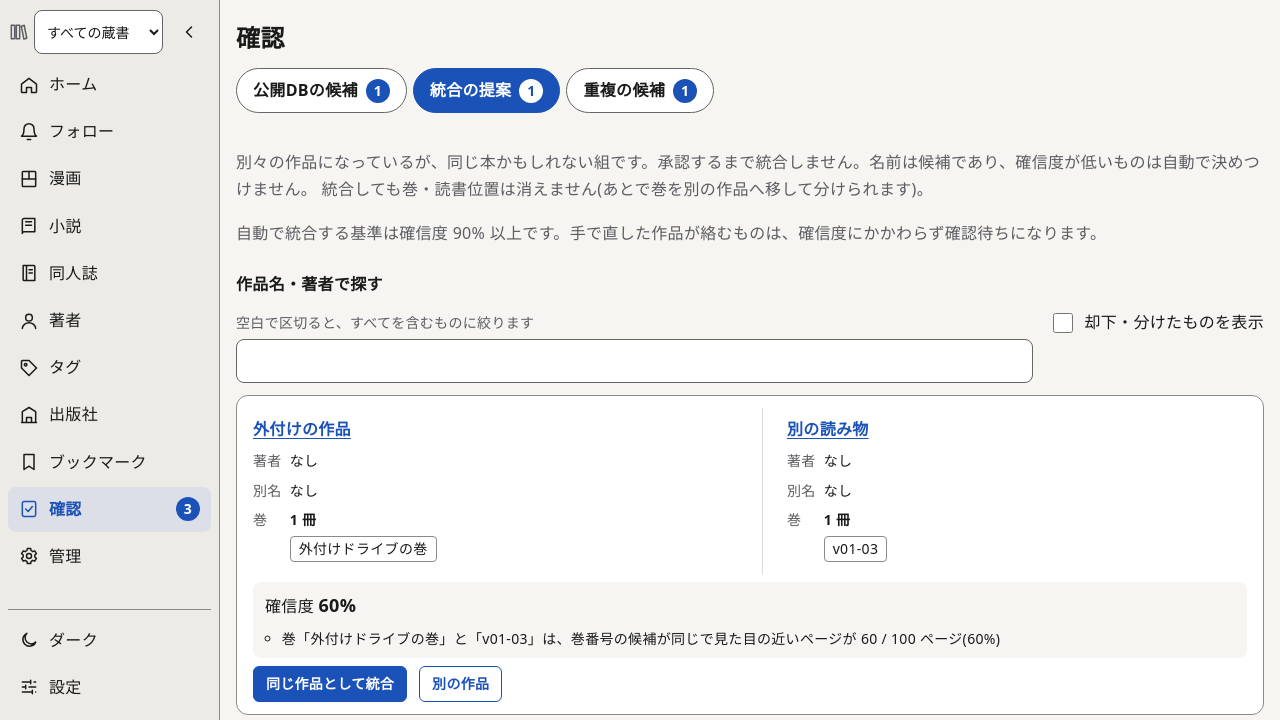
Test: 統合の提案 › 確信度と根拠を見て、却下すると消えて、戻せる
Expected: the text "60%" is shown, left=318, top=593, right=356, bottom=617
Expected: the list item "見た目の近いページが 60 / 100 ページ" is shown, left=282, top=628, right=1000, bottom=648
Step 1. Click the button "別の作品" → [461, 684], box left=419, top=666, right=502, bottom=702
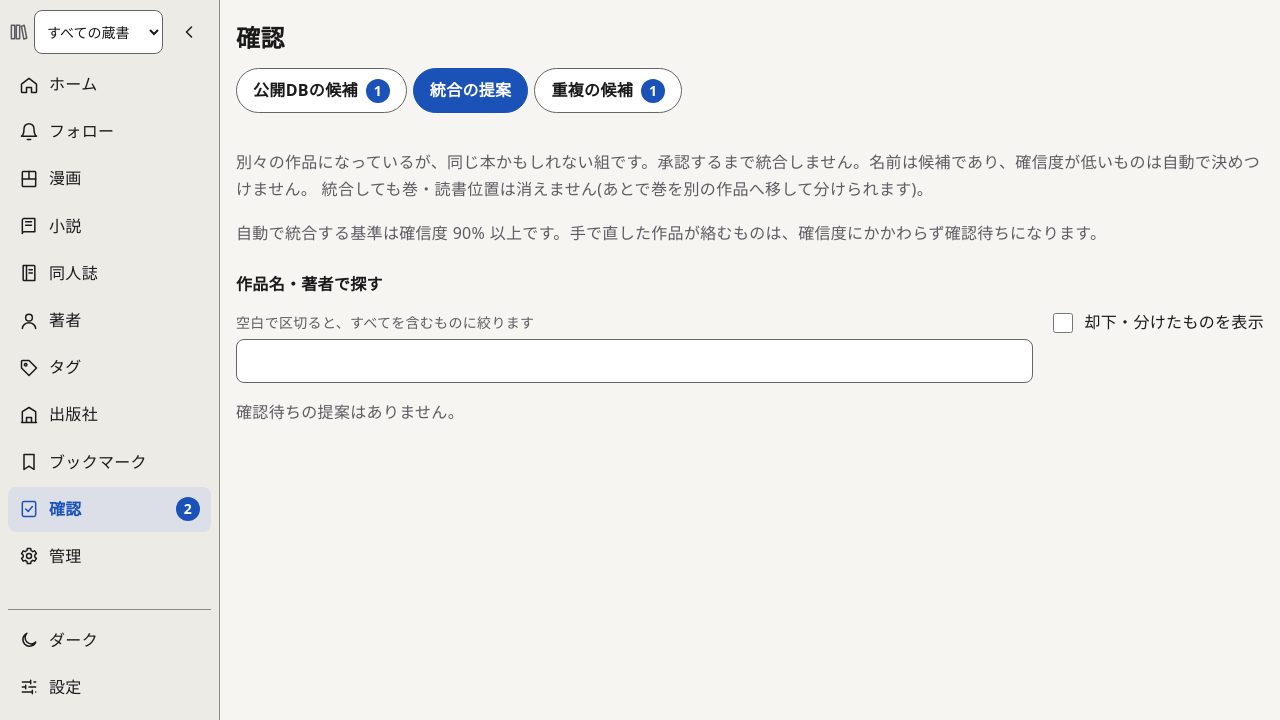
Expected: the text "確認待ちの提案はありません。" is shown, left=236, top=400, right=464, bottom=422
Step 2. Click the checkbox labelled "却下・分けたものを表示" → [1064, 323], box left=1054, top=313, right=1074, bottom=333
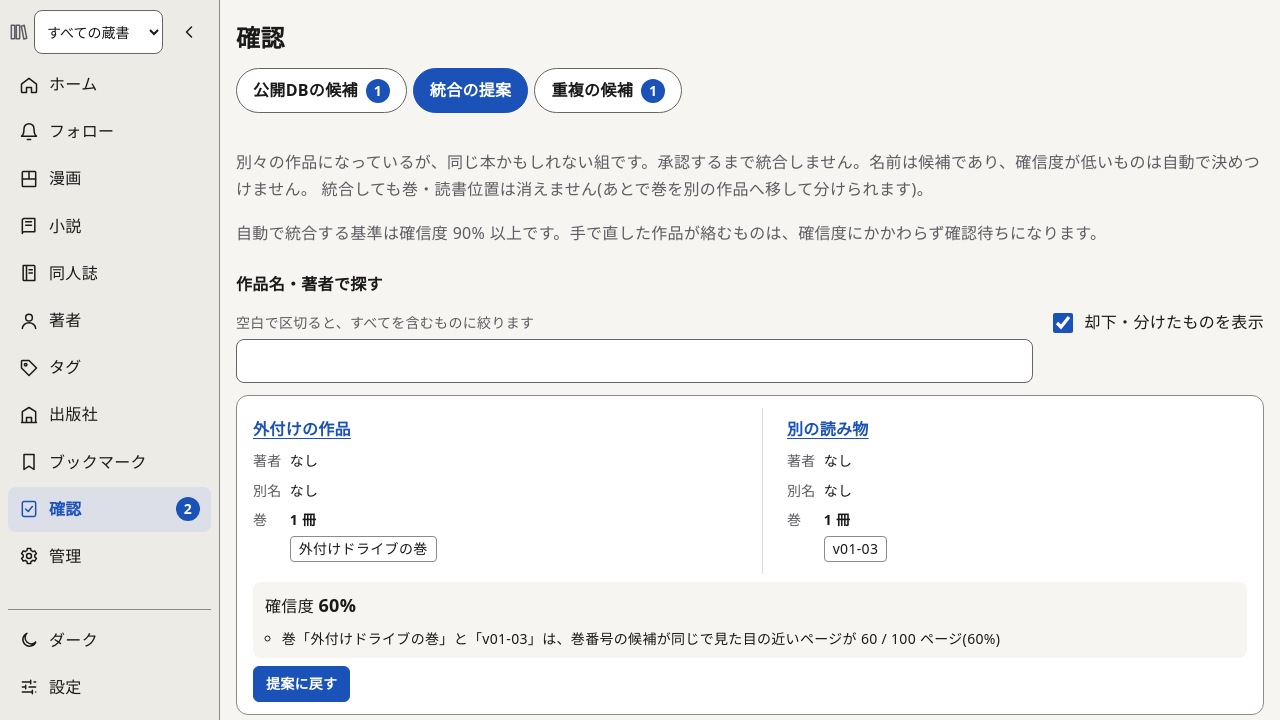
Step 3. Click the button "提案に戻す" → [302, 684], box left=253, top=666, right=350, bottom=702
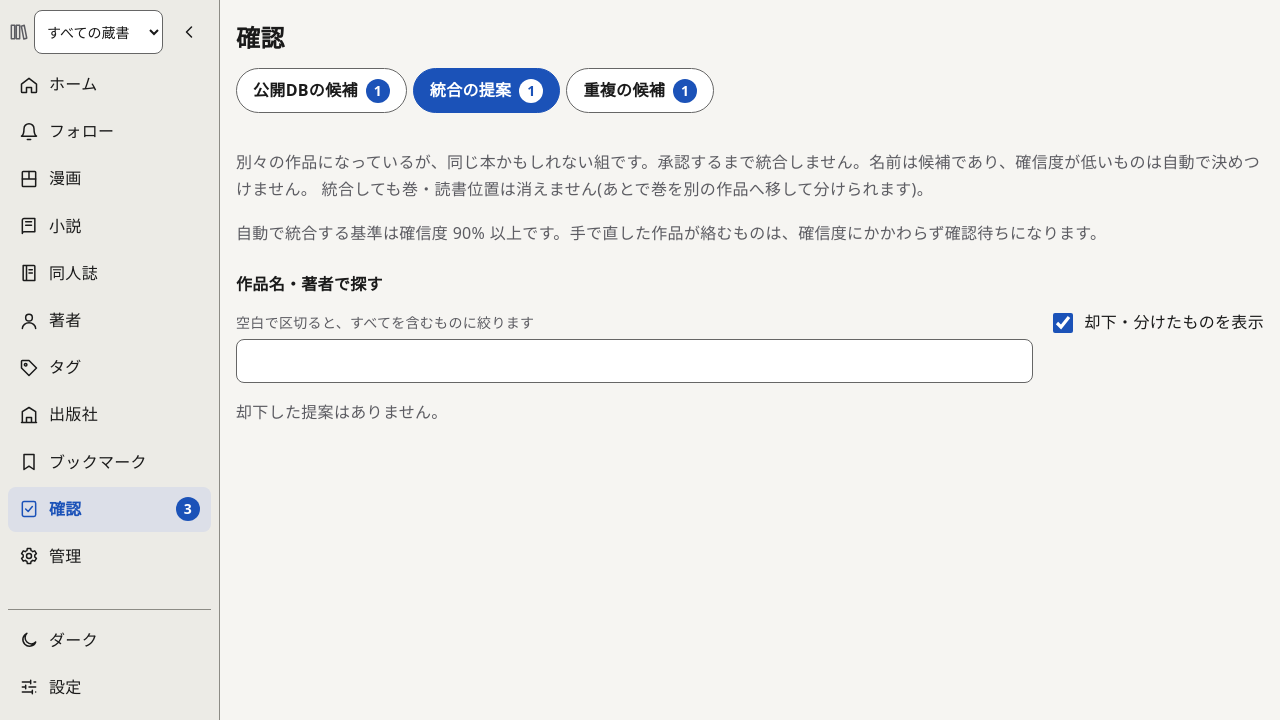
Expected: the text "却下した提案はありません。" is shown, left=236, top=400, right=448, bottom=422
